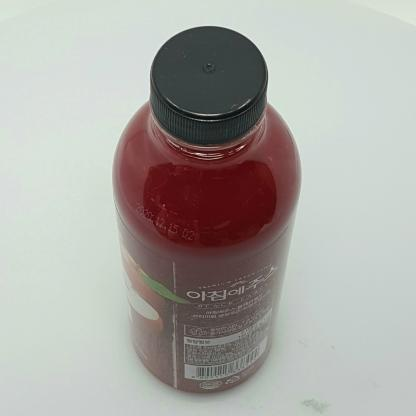--------------ABC--750ML: (112, 26, 301, 394)
